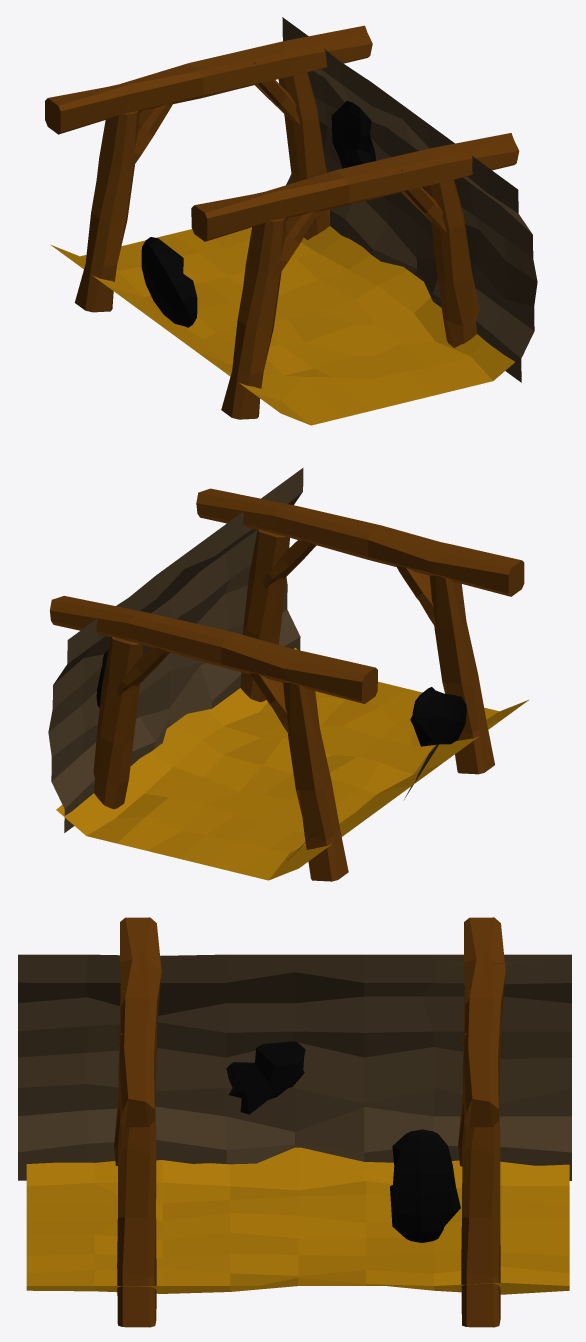
The model's file is mine_tunnel.fbx.
The picture shows the model from 3 angles, top to bottom: view 1: azimuth 30°, elevation 25°; view 2: azimuth 150°, elevation 25°; view 3: azimuth 270°, elevation 25°; orthographic projection. The views are drawn at different scales.
Visible parts, largest first — view 1: Floor, arch1.001, Plane.001, arch1, CoalOre.001, CoalOre; view 2: Floor, arch1, Plane.001, arch1.001, CoalOre.001; view 3: Plane.002, Floor, arch1, arch1.001, CoalOre, CoalOre.001.
Boxes of the visible parts, <box> form: Floor: <box>50,226,514,425</box>; arch1.001: <box>191,133,519,419</box>; Plane.001: <box>282,17,537,382</box>; arch1: <box>45,25,372,312</box>; CoalOre.001: <box>141,237,197,327</box>; CoalOre: <box>331,100,375,168</box>; Floor: <box>56,648,529,880</box>; arch1: <box>50,596,377,881</box>; Plane.001: <box>48,467,303,832</box>; arch1.001: <box>196,488,524,774</box>; CoalOre.001: <box>410,687,466,746</box>; Plane.002: <box>18,954,571,1180</box>; Floor: <box>26,1147,569,1294</box>; arch1: <box>458,917,505,1327</box>; arch1.001: <box>114,917,161,1327</box>; CoalOre: <box>390,1129,460,1242</box>; CoalOre.001: <box>226,1041,305,1114</box>.
Size of the model in its own units: 1251 by 816 by 1597.
